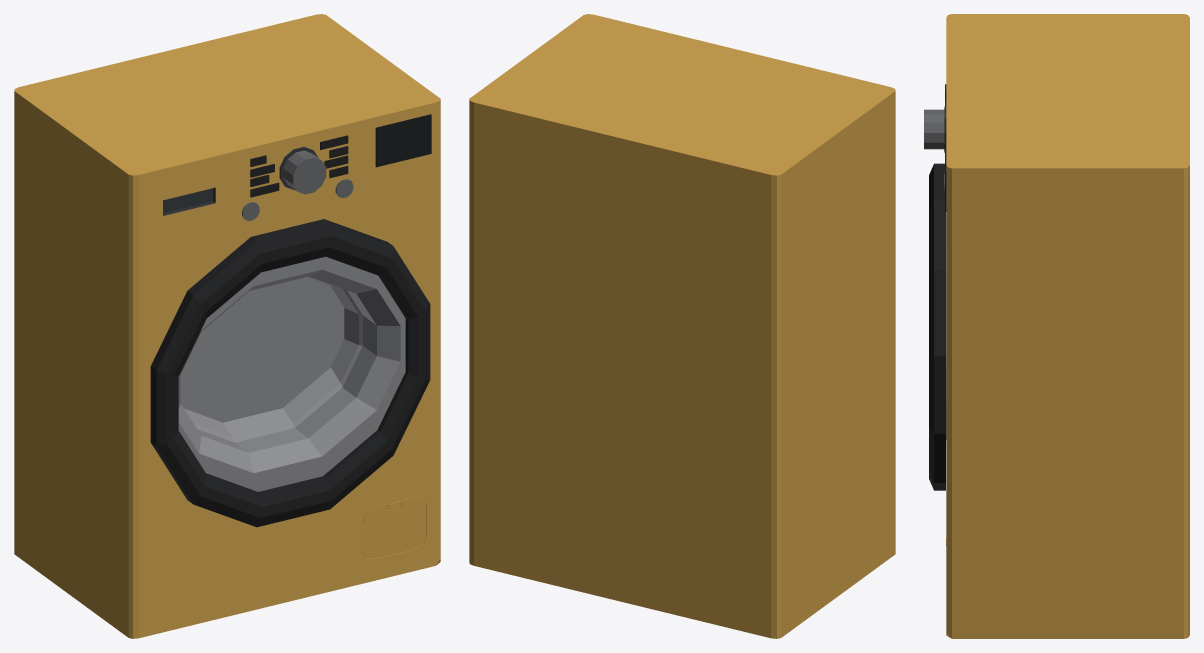
Rendered from washingmachine_01_D.gltf.
3 renders of one model, left to right at view 1: azimuth 30°, elevation 25°; view 2: azimuth 150°, elevation 25°; view 3: azimuth 270°, elevation 25°, orthographic.
Parts seen in each view (by area): view 1: washingmachine_01_D, Doorforwashingmachine_01_D, shelfforwashingmachine_01_D, hatchforwashingmachine_01_D, Switchforwashingmachine_03_D; view 2: washingmachine_01_D; view 3: washingmachine_01_D, Doorforwashingmachine_01_D, Switchforwashingmachine_03_D.
Boxes of the visible parts, bbox=[...] form: washingmachine_01_D: bbox=[14, 14, 440, 638]; Doorforwashingmachine_01_D: bbox=[150, 219, 430, 527]; shelfforwashingmachine_01_D: bbox=[146, 163, 232, 240]; hatchforwashingmachine_01_D: bbox=[363, 497, 426, 558]; Switchforwashingmachine_03_D: bbox=[283, 150, 326, 194]; washingmachine_01_D: bbox=[469, 14, 895, 638]; washingmachine_01_D: bbox=[944, 14, 1189, 638]; Doorforwashingmachine_01_D: bbox=[929, 163, 946, 490]; Switchforwashingmachine_03_D: bbox=[924, 109, 944, 149].
Size of the model in its own units: 0.6 by 0.8522 by 0.4363.
Materials: 1 (1 with a texture image).
